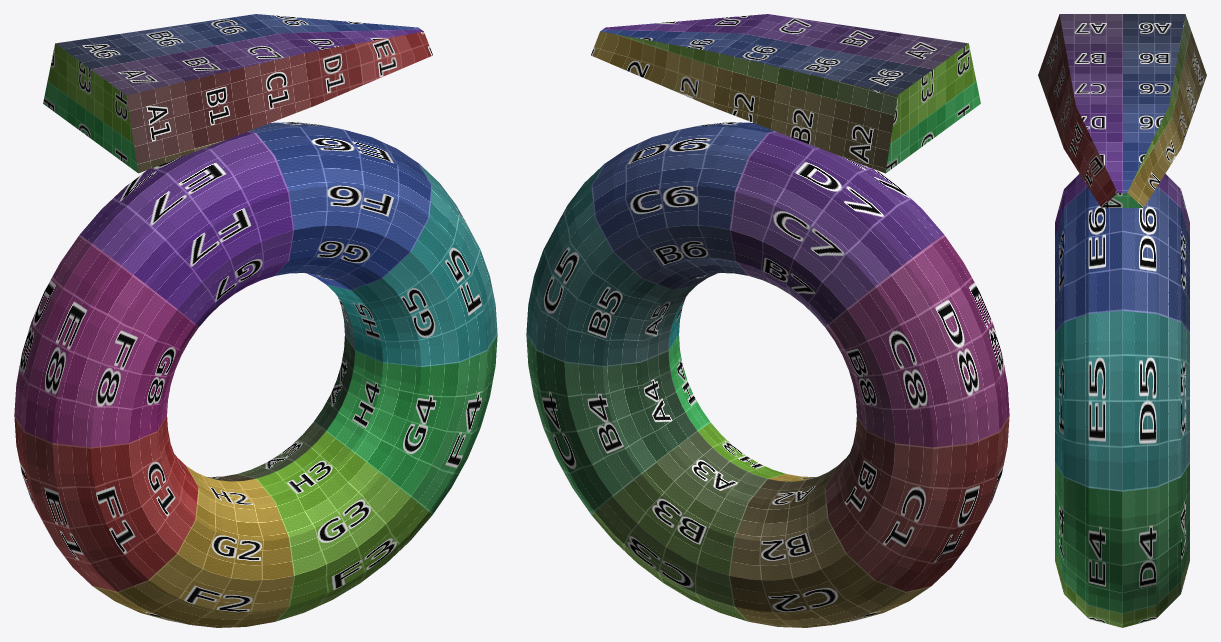
File: vehicle-test.glb
The picture shows the model from 3 angles, left to right: view 1: azimuth 30°, elevation 25°; view 2: azimuth 150°, elevation 25°; view 3: azimuth 270°, elevation 25°; orthographic projection. The views are drawn at different scales.
Visible parts, largest first — view 1: wheel, base; view 2: wheel, base; view 3: wheel, base.
Boxes of the visible parts, <box> form: wheel: <box>14,122,497,627</box>; base: <box>43,14,432,173</box>; wheel: <box>526,122,1009,627</box>; base: <box>591,14,980,173</box>; wheel: <box>1055,174,1189,627</box>; base: <box>1038,14,1206,207</box>.
Size of the model in its own units: 1.4 by 1.7 by 0.5.
1 material, 1 textured.
